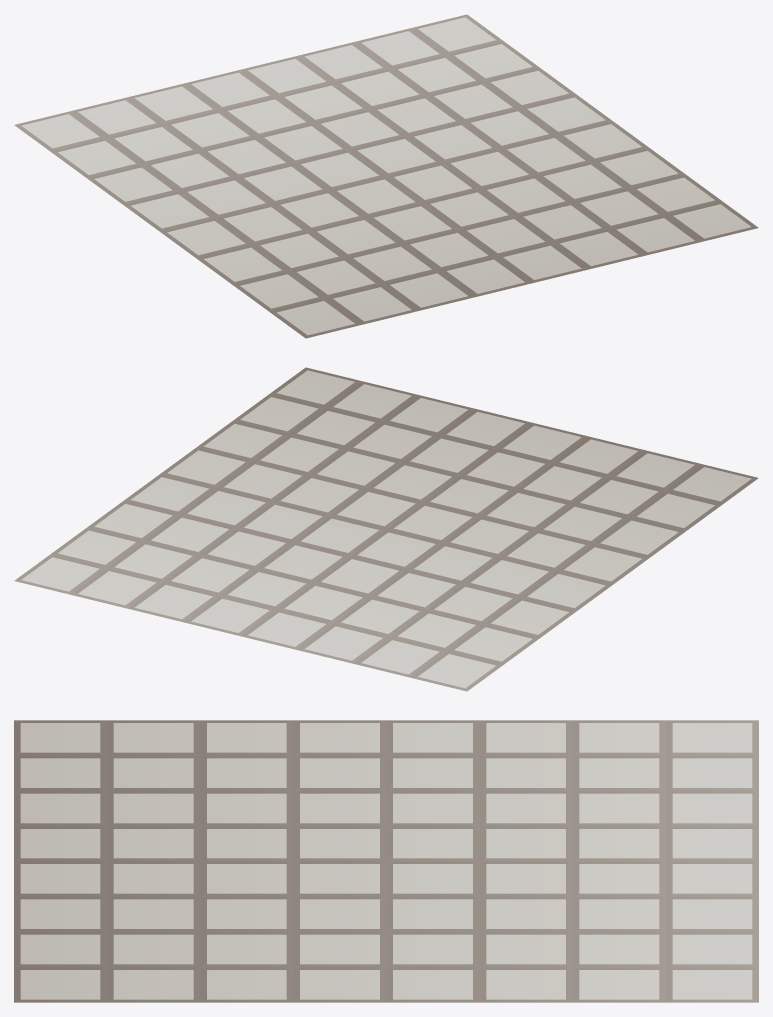
The model's file is Floor 1.fbx.
3 renders of one model, top to bottom at view 1: azimuth 30°, elevation 25°; view 2: azimuth 150°, elevation 25°; view 3: azimuth 270°, elevation 25°, orthographic. The views are drawn at different scales.
Parts seen in each view (by area): view 1: Box001; view 2: Box001; view 3: Box001.
Boxes of the visible parts, box(x1,y1,x2,y2) form: Box001: box(14, 14, 758, 338); Box001: box(14, 367, 758, 691); Box001: box(14, 720, 758, 1002).
Bounding box in the file's own units: 292 × 0.0896 × 325.
